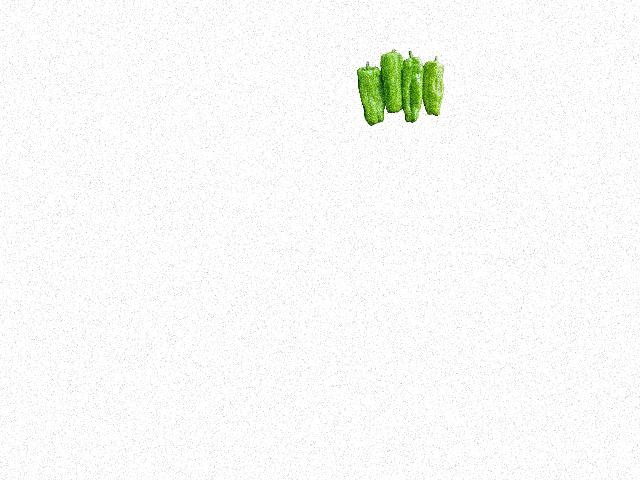bell_pepper: (357, 58, 384, 130)
